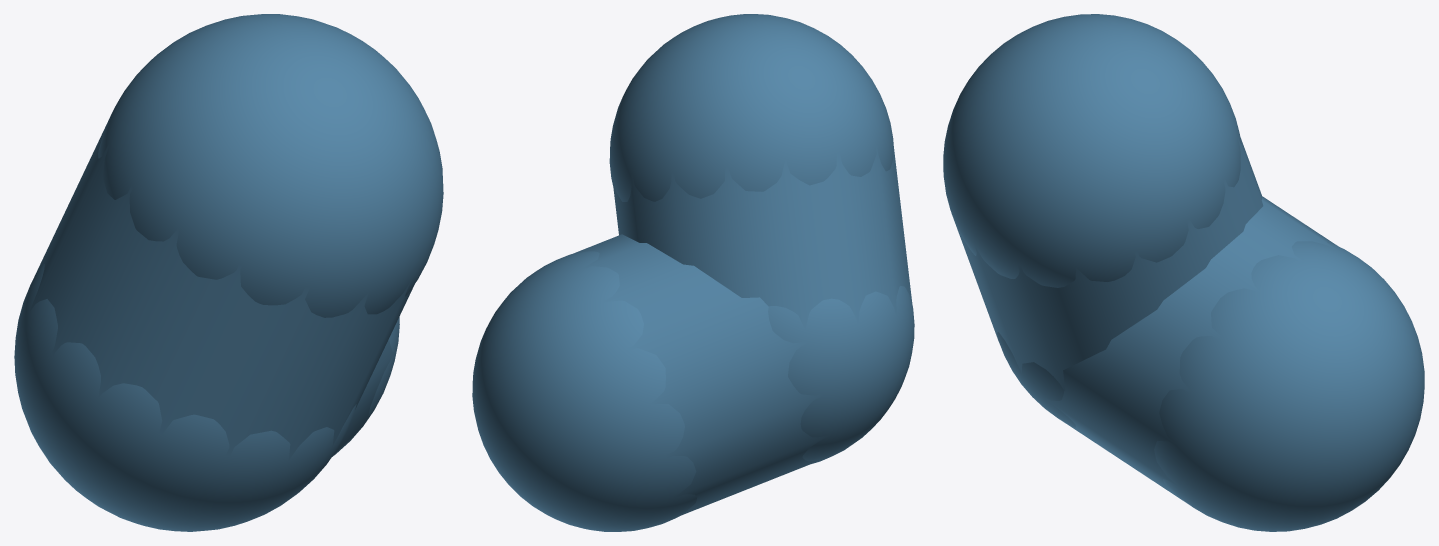
The model's file is 962-sticks-print_NIH3D.glb.
The picture shows the model from 3 angles, left to right: view 1: azimuth 30°, elevation 25°; view 2: azimuth 150°, elevation 25°; view 3: azimuth 270°, elevation 25°; orthographic projection. The views are drawn at different scales.
Parts seen in each view (by area): view 1: atoms, bonds; view 2: atoms, bonds; view 3: atoms, bonds.
Part boxes in pixels (x1,y1,x2,y2): atoms: (14, 14, 443, 531); bonds: (29, 120, 414, 461); atoms: (472, 14, 914, 531); bonds: (565, 141, 913, 519); atoms: (943, 14, 1424, 531); bonds: (951, 136, 1338, 503).
Bounding box in the file's own units: 2.21 × 2.73 × 2.57.
